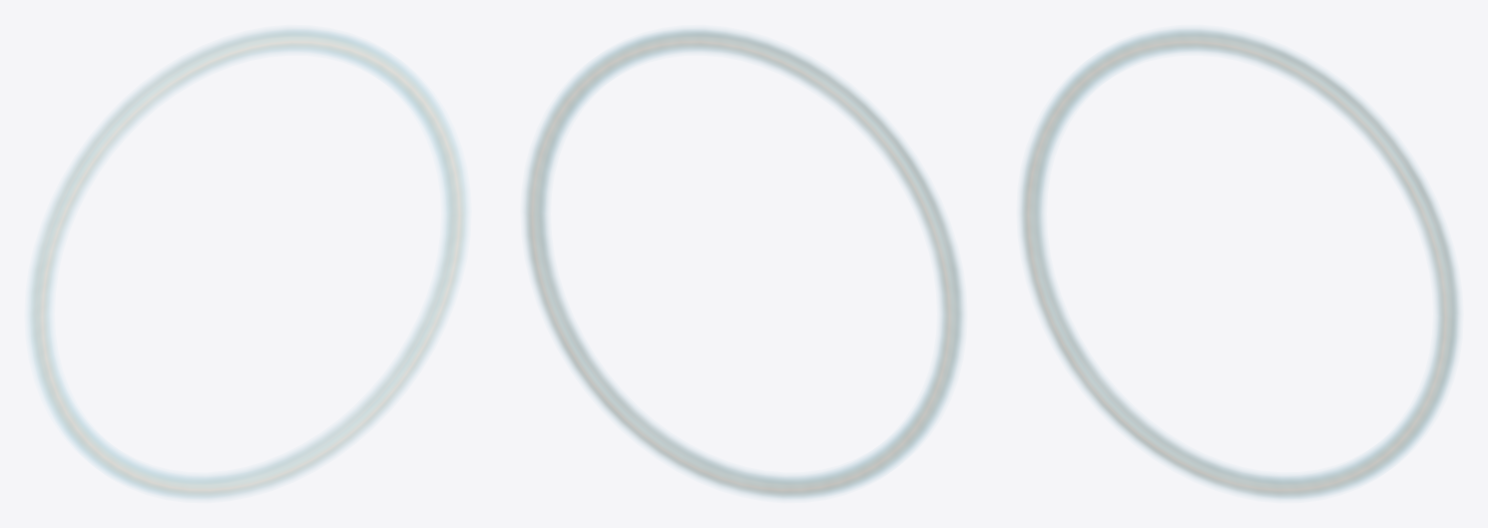
The model's file is shock_ring.glb.
The picture shows the model from 3 angles, left to right: view 1: azimuth 30°, elevation 25°; view 2: azimuth 150°, elevation 25°; view 3: azimuth 330°, elevation 25°; orthographic projection.
Parts seen in each view (by area): view 1: SkyRally_ShockRing; view 2: SkyRally_ShockRing; view 3: SkyRally_ShockRing.
Boxes of the visible parts, x1=… form: SkyRally_ShockRing: x1=27, y1=28, x2=468, y2=499; SkyRally_ShockRing: x1=523, y1=28, x2=964, y2=499; SkyRally_ShockRing: x1=1019, y1=28, x2=1460, y2=499.
Size of the model in its own units: 2 by 2 by 0.044.
1 material, 1 textured.
